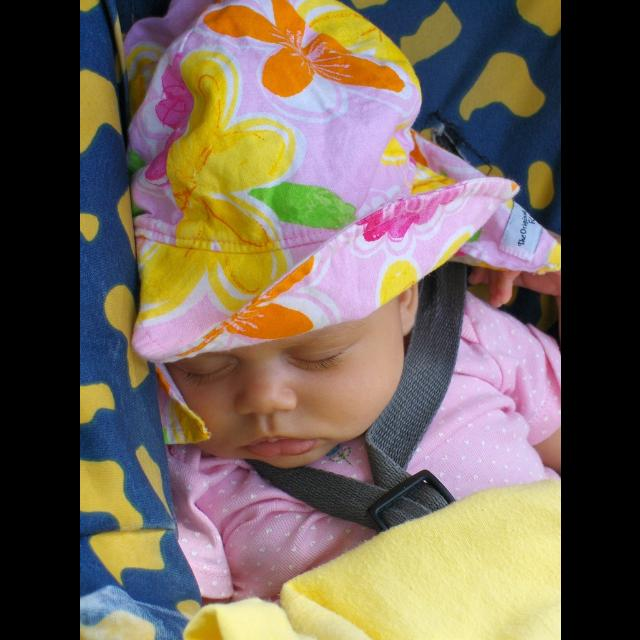Flower: (135, 42, 301, 328), (202, 0, 402, 100), (178, 252, 316, 354), (353, 184, 459, 243)
